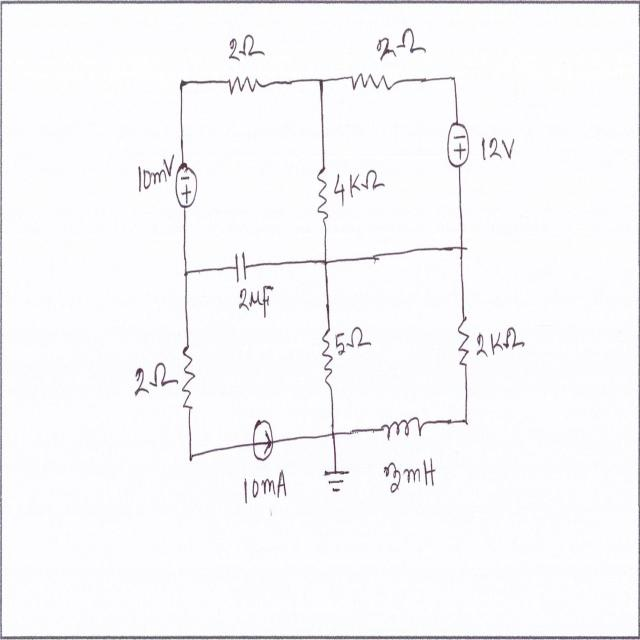capacitor: (234, 248, 250, 290)
current_source: (250, 408, 275, 468)
ground: (320, 457, 354, 499)
inductor: (380, 411, 422, 448)
resistor: (177, 341, 196, 415), (223, 68, 261, 103), (348, 72, 396, 98), (314, 159, 331, 222), (455, 308, 470, 370), (319, 326, 334, 383)
voltage_source: (443, 121, 471, 172), (172, 159, 201, 208)
